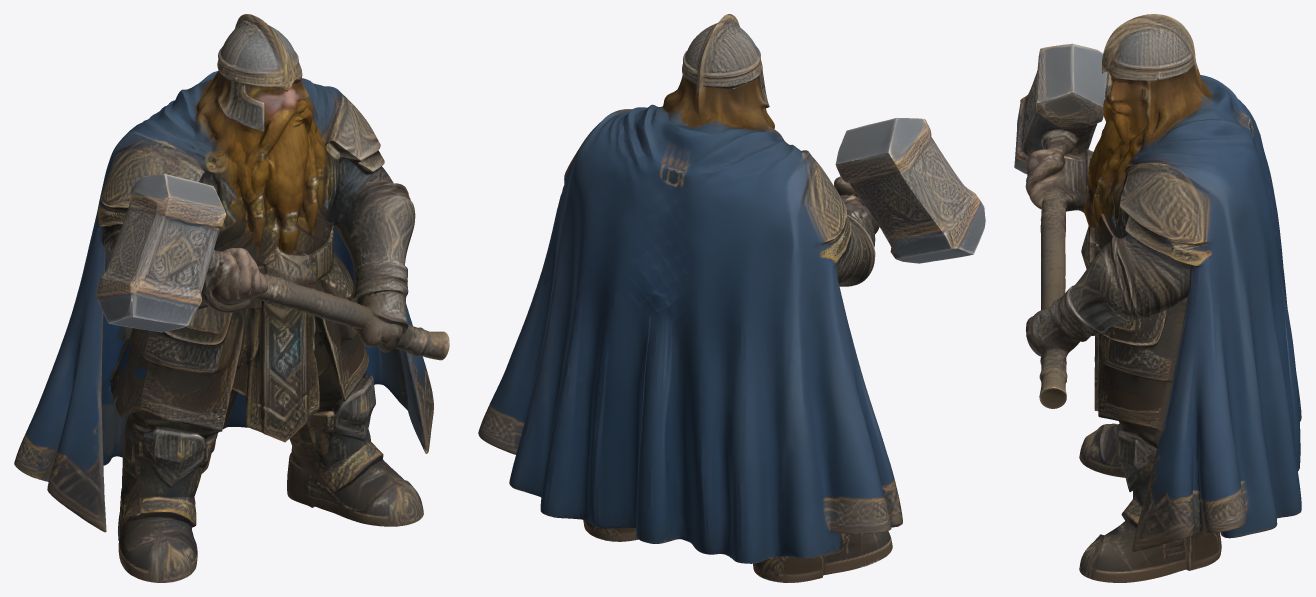
Rendered from dwarven_warrior_proxy.glb.
3 renders of one model, left to right at view 1: azimuth 30°, elevation 25°; view 2: azimuth 150°, elevation 25°; view 3: azimuth 270°, elevation 25°, orthographic. The views are drawn at different scales.
Parts seen in each view (by area): view 1: model; view 2: model; view 3: model.
Boxes of the visible parts, <box> form: model: <box>14,14,449,582</box>; model: <box>478,14,985,582</box>; model: <box>1014,14,1301,582</box>.
Bounding box in the file's own units: 1.58 × 1.9 × 0.9882.
1 material, 1 textured.
